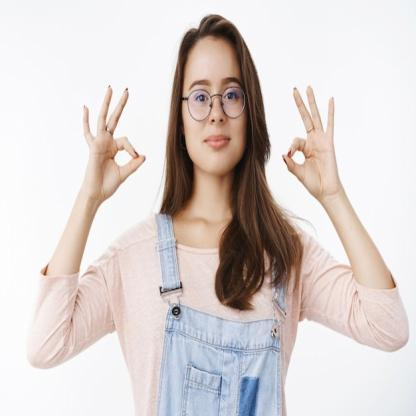ok: (80, 79, 147, 200), (279, 80, 343, 204)
